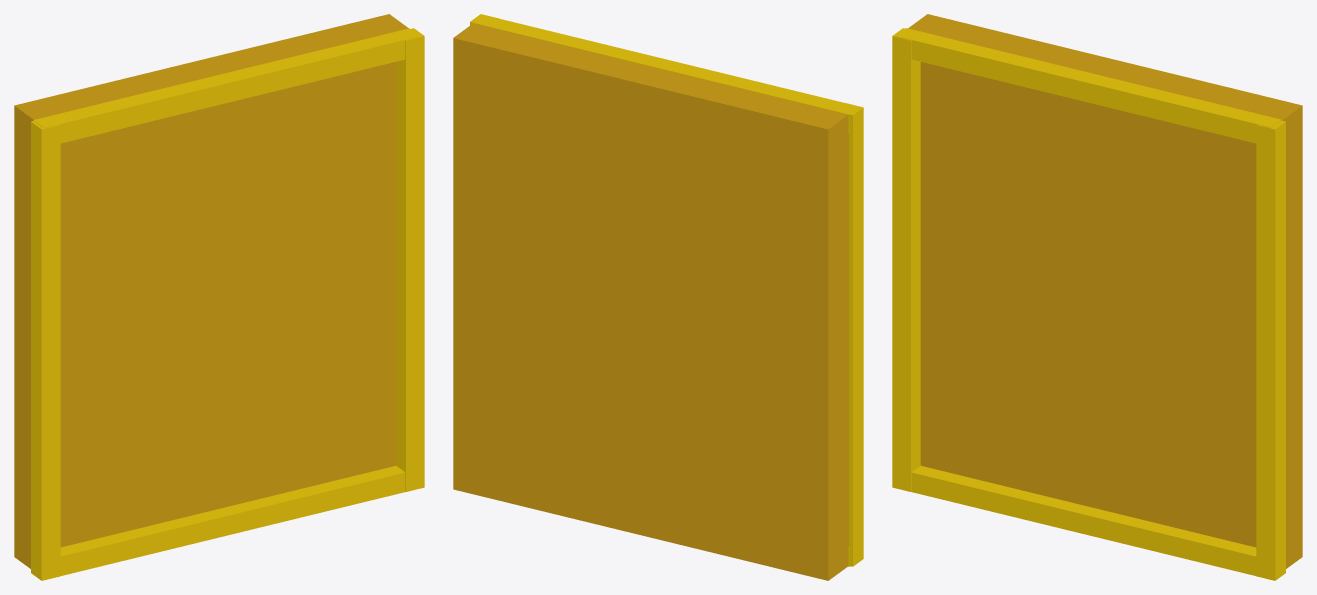
The model's file is marcoPhoto.glb.
The picture shows the model from 3 angles, left to right: view 1: azimuth 30°, elevation 25°; view 2: azimuth 150°, elevation 25°; view 3: azimuth 330°, elevation 25°; orthographic projection.
Size of the model in its own units: 2.04 by 2.3 by 0.2906.
